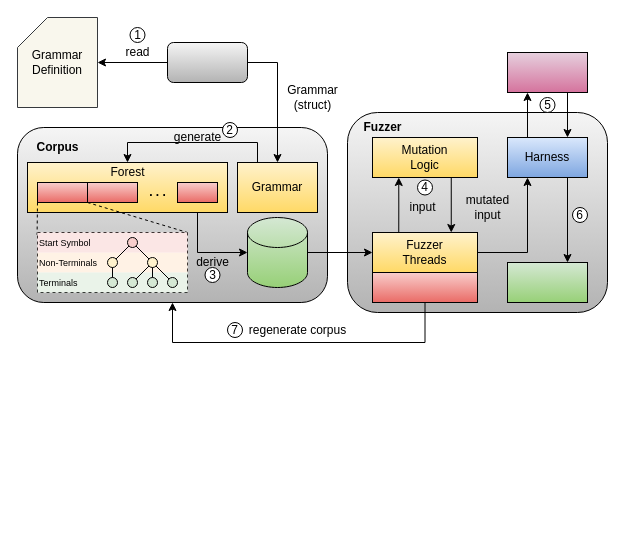
This 625x540 diagram has some shape labels left out. The shapes that lost their labels are listed below. From the top down, each one's centre as x and y in pixels, then its label:
At (x=207, y=62): "Grammar Parser".
At (x=547, y=72): "PUT".
At (x=62, y=192): "Tree 1".
At (x=112, y=192): "Tree 2".
At (x=197, y=192): "Tree n".
At (x=277, y=252): "Inputs".
At (x=425, y=287): "Scheduler".
At (x=547, y=282): "Log Crashes".
